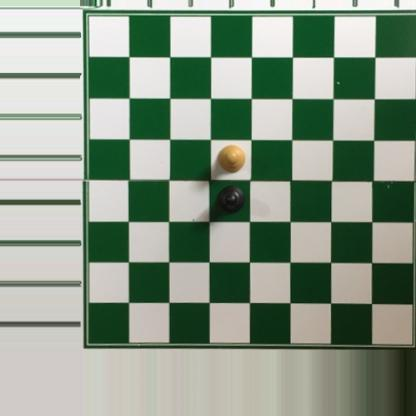black-pawn: (216, 185, 245, 215)
white-pawn: (216, 143, 246, 174)
